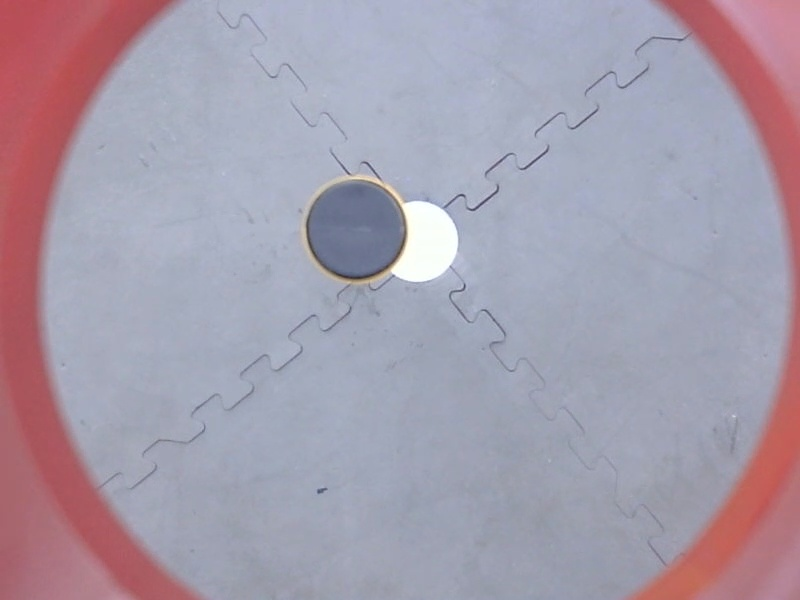tip: (297, 170, 415, 289)
